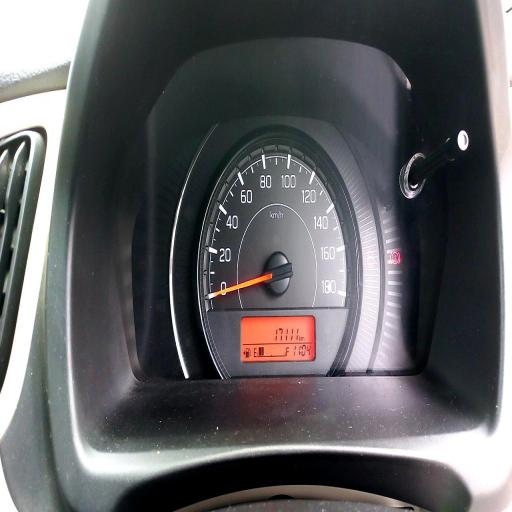brake_system_fault: (389, 250, 401, 266)
